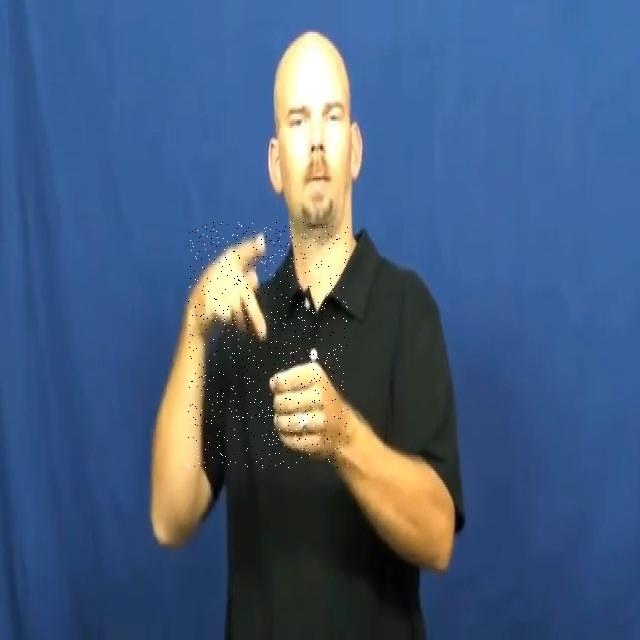soda: (188, 222, 348, 468)
